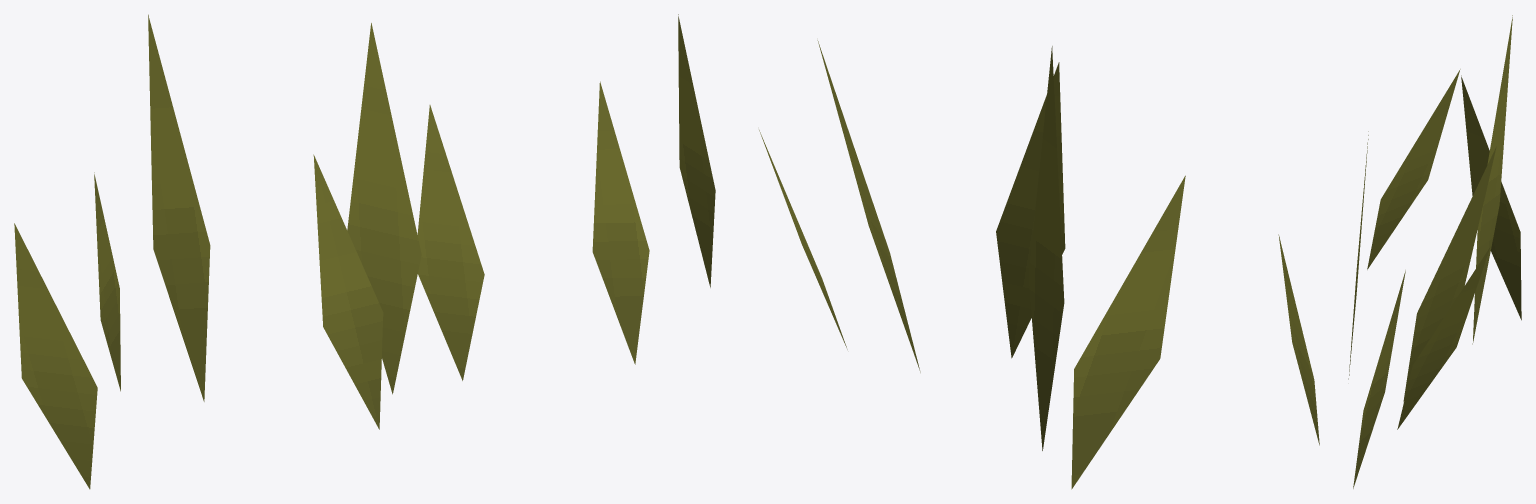
The model's file is plants_me_dlc2_main_grass312.gltf.
3 views of the same model, side by side, from view 1: azimuth 30°, elevation 25°; view 2: azimuth 150°, elevation 25°; view 3: azimuth 270°, elevation 25° (orthographic). The views are drawn at different scales.
Parts seen in each view (by area): view 1: um_plants_me_dlc2_main_grass312_model_plants_me_dlc2_main_gr; view 2: um_plants_me_dlc2_main_grass312_model_plants_me_dlc2_main_gr; view 3: um_plants_me_dlc2_main_grass312_model_plants_me_dlc2_main_gr.
Part boxes in pixels (x1,y1,x2,y2): um_plants_me_dlc2_main_grass312_model_plants_me_dlc2_main_gr: (14, 14, 649, 489); um_plants_me_dlc2_main_grass312_model_plants_me_dlc2_main_gr: (678, 14, 1319, 489); um_plants_me_dlc2_main_grass312_model_plants_me_dlc2_main_gr: (1348, 15, 1521, 488).
Size of the model in its own units: 0.5503 by 0.3383 by 0.1672.
Materials: 1 (1 with a texture image).
